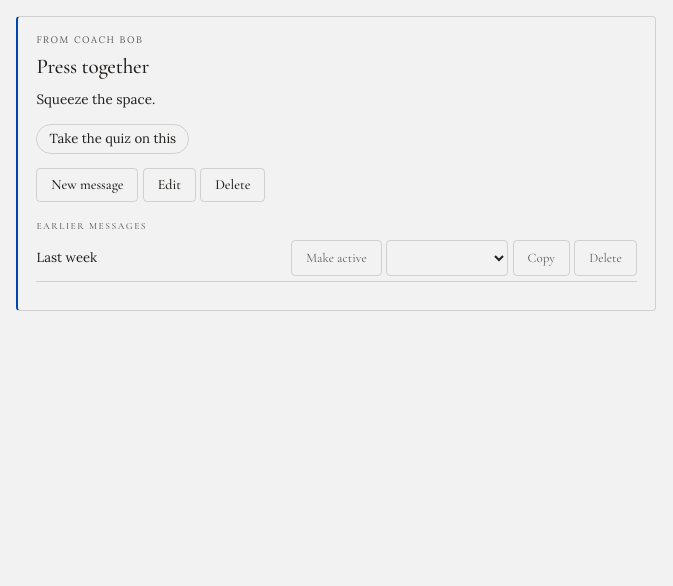
what a coach can do › will not save an empty message
Click the button "New message" at (87, 185), box x1=36 y1=168 x2=138 y2=202
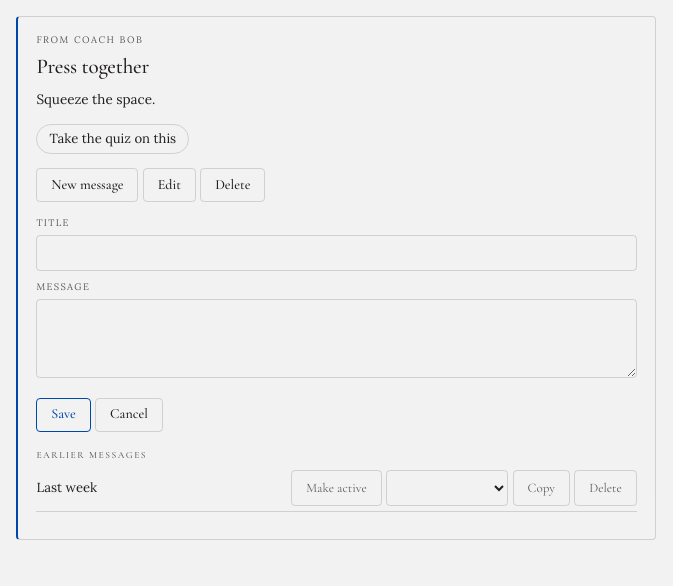
Submit the form, box x1=36 y1=216 x2=637 y2=432
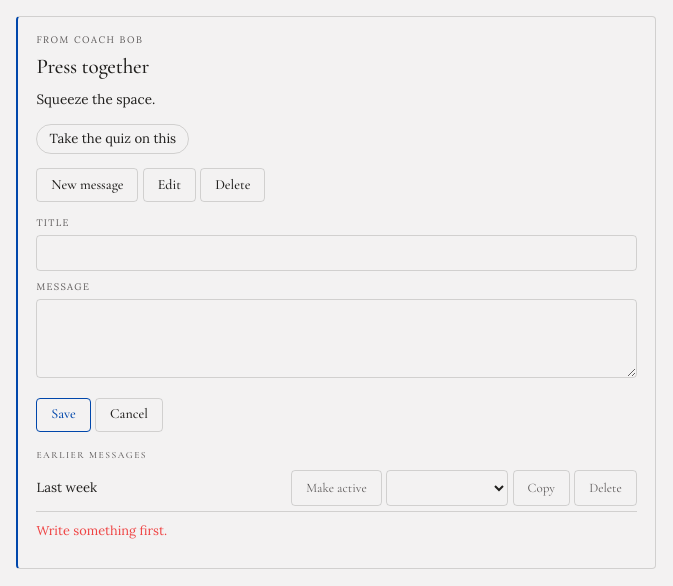
Result: the message "Write something first." is shown at x1=36 y1=522 x2=167 y2=539
